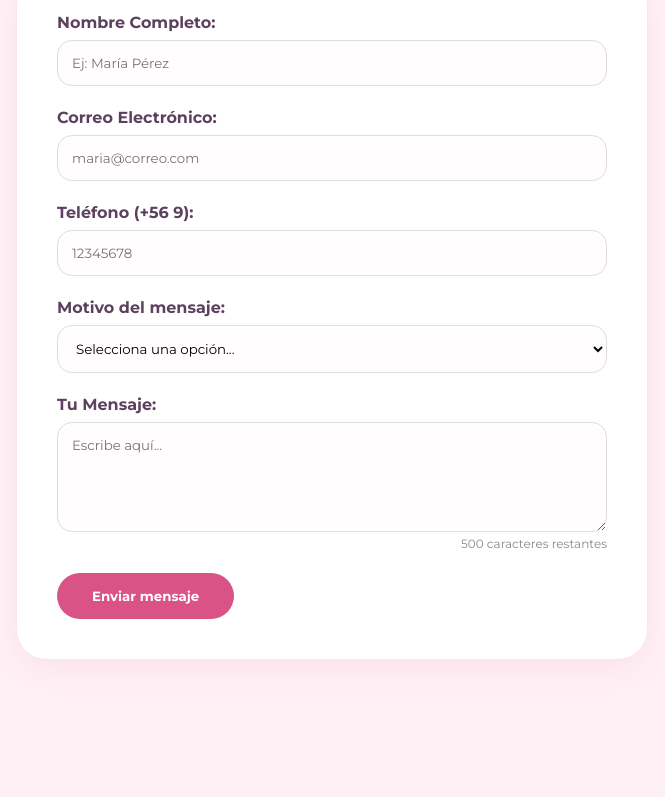
Test: Pruebas de Formulario de Contacto - My Dreams › 1. Debe mostrar errores de validación cuando los campos están vacíos
(page scrolled)
Click the button "Enviar mensaje": point(146, 596) [57,573,234,619]
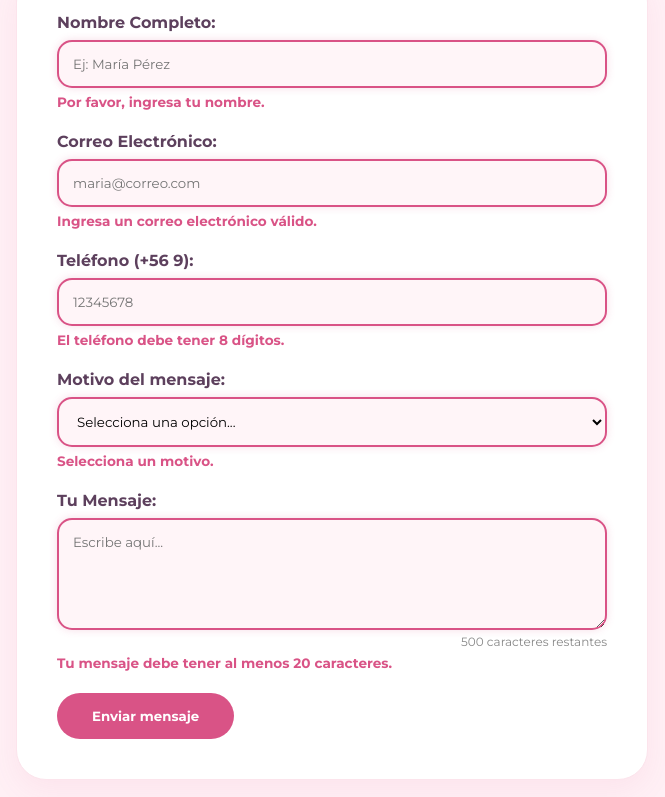
Result: the text "Por favor, ingresa tu nombre." is shown at [57,94,264,110]
Result: the text "Ingresa un correo electrónico válido." is shown at [57,213,317,229]
Result: the text "Selecciona un motivo." is shown at [57,453,214,469]
